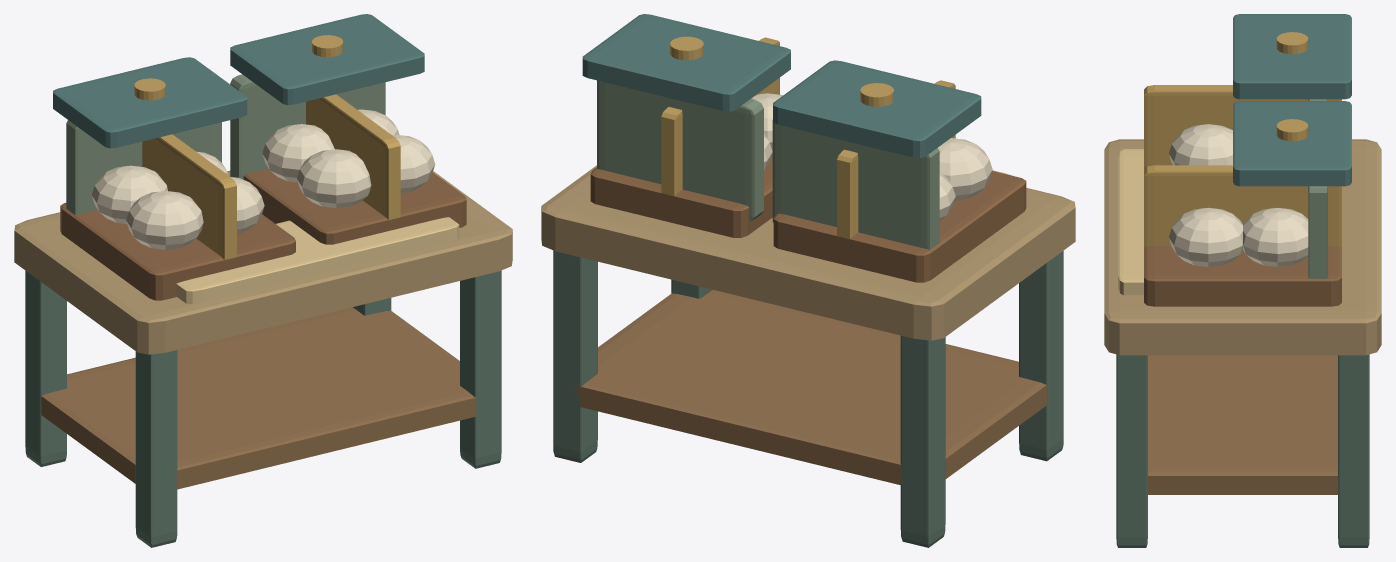
The model's file is clay.glb.
3 views of the same model, side by side, from view 1: azimuth 30°, elevation 25°; view 2: azimuth 150°, elevation 25°; view 3: azimuth 270°, elevation 25° (orthographic). The views are drawn at different scales.
Parts seen in each view (by area): view 1: clay-table-shelf-005, clay-table-top-000, clay-clay-shelf-021, clay-clay-shelf-023, clay-clay-board-006, clay-table-leg-002, clay-clay-tray-020, clay-table-leg-004, clay-clay-board-011, clay-table-leg-001, clay-clay-rail-017, clay-clay-rail-019 (+10 smaller); view 2: clay-table-shelf-005, clay-table-top-000, clay-clay-bin-018, clay-clay-bin-016, clay-clay-shelf-021, clay-clay-shelf-023, clay-clay-board-006, clay-table-leg-001, clay-table-leg-003, clay-table-leg-002, clay-clay-board-011, clay-clay-ball-009 (+4 smaller); view 3: clay-table-shelf-005, clay-table-top-000, clay-clay-shelf-021, clay-clay-shelf-023, clay-clay-board-011, clay-clay-rail-019, clay-table-leg-003, clay-table-leg-004, clay-clay-rail-017, clay-clay-tray-020, clay-clay-ball-015, clay-clay-ball-013 (+4 smaller).
Part boxes in pixels (bbox=[...]): clay-table-shelf-005: bbox=[41, 307, 482, 489]; clay-table-top-000: bbox=[14, 170, 512, 354]; clay-clay-shelf-021: bbox=[53, 57, 247, 148]; clay-clay-shelf-023: bbox=[230, 14, 424, 105]; clay-clay-board-006: bbox=[60, 203, 295, 300]; clay-table-leg-002: bbox=[135, 350, 177, 547]; clay-clay-tray-020: bbox=[176, 217, 459, 303]; clay-table-leg-004: bbox=[460, 270, 501, 468]; clay-clay-board-011: bbox=[243, 168, 466, 244]; clay-table-leg-001: bbox=[25, 270, 66, 466]; clay-clay-rail-017: bbox=[142, 134, 236, 259]; clay-clay-rail-019: bbox=[306, 94, 400, 220]; clay-table-shelf-005: bbox=[574, 290, 1046, 485]; clay-table-top-000: bbox=[541, 165, 1075, 340]; clay-clay-bin-018: bbox=[597, 80, 763, 221]; clay-clay-bin-016: bbox=[772, 120, 939, 249]; clay-clay-shelf-021: bbox=[773, 60, 981, 158]; clay-clay-shelf-023: bbox=[582, 14, 790, 111]; clay-clay-board-006: bbox=[773, 171, 1026, 282]; clay-table-leg-001: bbox=[900, 335, 945, 547]; clay-table-leg-003: bbox=[553, 250, 597, 462]; clay-table-leg-002: bbox=[1019, 251, 1063, 461]; clay-clay-board-011: bbox=[590, 156, 772, 237]; clay-clay-ball-009: bbox=[938, 138, 992, 200]; clay-table-shelf-005: bbox=[1147, 355, 1338, 494]; clay-table-top-000: bbox=[1104, 139, 1381, 355]; clay-clay-shelf-021: bbox=[1233, 14, 1351, 99]; clay-clay-shelf-023: bbox=[1233, 101, 1351, 186]; clay-clay-board-011: bbox=[1144, 246, 1341, 306]; clay-clay-rail-019: bbox=[1144, 165, 1341, 246]; clay-table-leg-003: bbox=[1338, 354, 1369, 547]; clay-table-leg-004: bbox=[1116, 354, 1147, 547]; clay-clay-rail-017: bbox=[1144, 85, 1341, 166]; clay-clay-tray-020: bbox=[1118, 149, 1143, 295]; clay-clay-ball-015: bbox=[1169, 207, 1242, 266]; clay-clay-ball-013: bbox=[1243, 207, 1308, 266].
Size of the model in its own units: 2.2 by 2.12 by 1.4.
